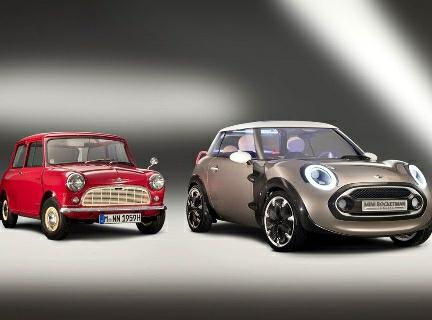car: (185, 114, 432, 255), (1, 124, 172, 243)
